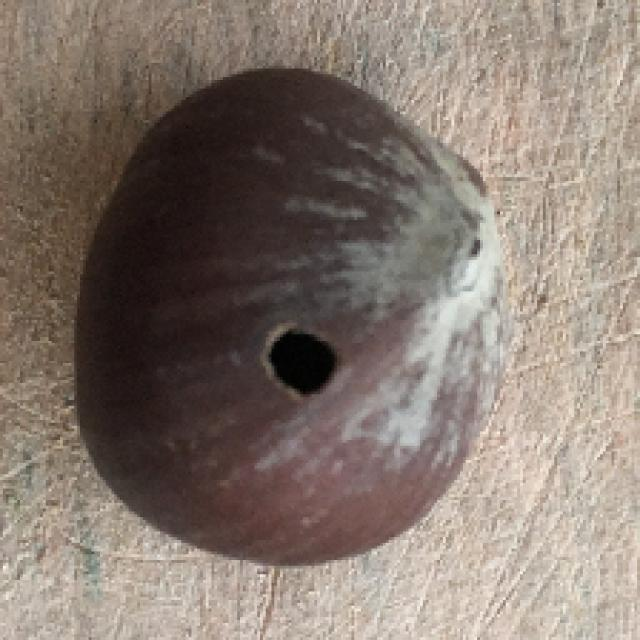damagedHazelnut: (76, 61, 518, 582)
